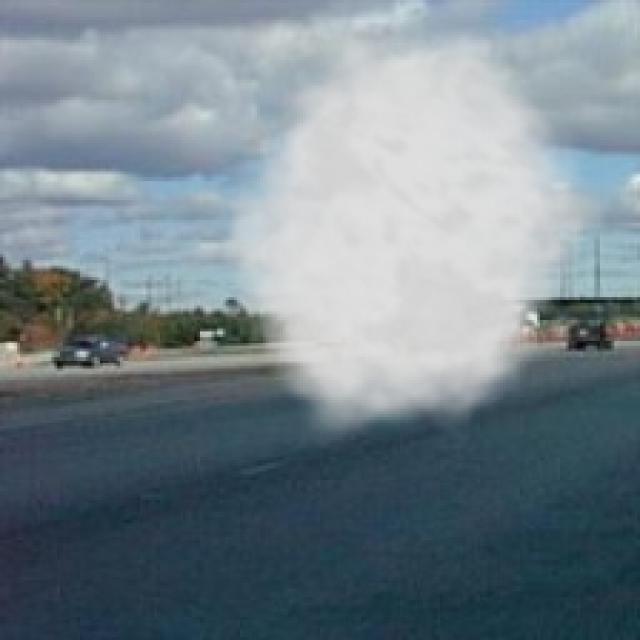Smoke: (214, 22, 603, 448)
